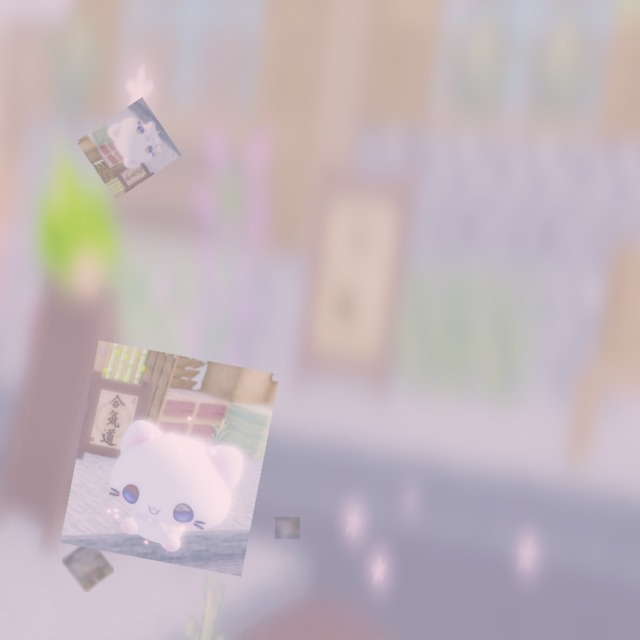urso_branco: (60, 340, 280, 577), (76, 97, 182, 200), (62, 540, 114, 592), (275, 517, 300, 539)
